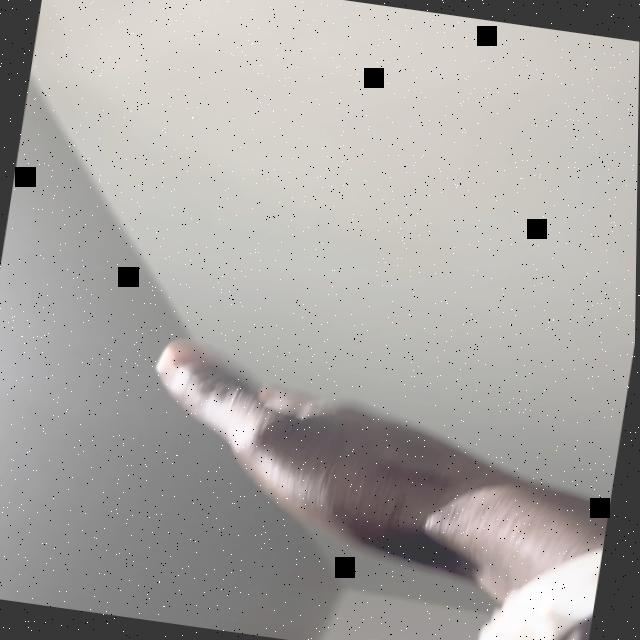Paper: (127, 335, 540, 584)
